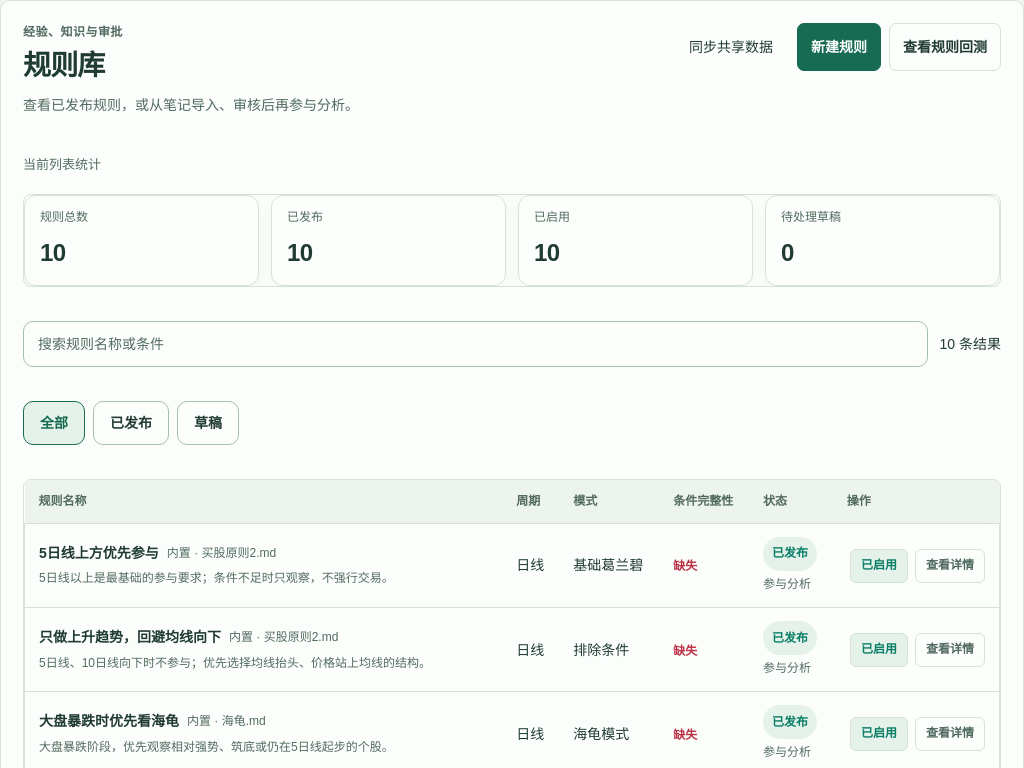
Test case: RulesPage interactions › keeps a rule draft and its inputs available when browser storage rejects the save
Click the button "新建规则".
click(839, 47)  # box x1=797 y1=23 x2=881 y2=71
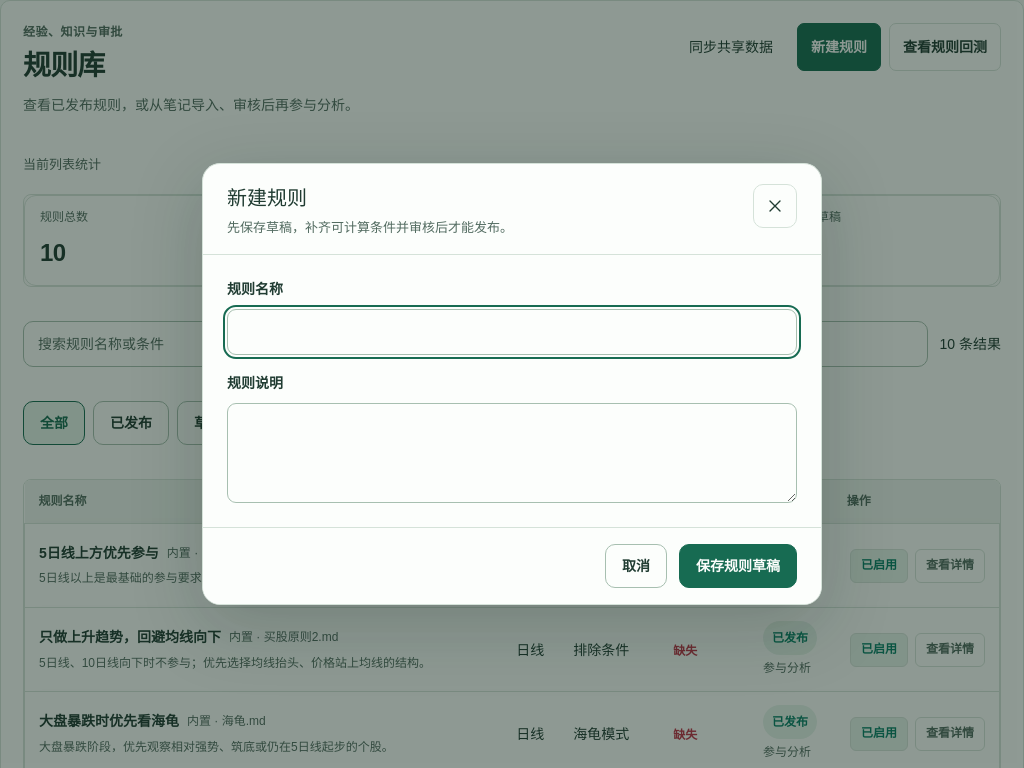
Type "保留输入" into the field labelled "规则名称".
click(512, 332); type("保留输入")  # box x1=227 y1=309 x2=797 y2=355
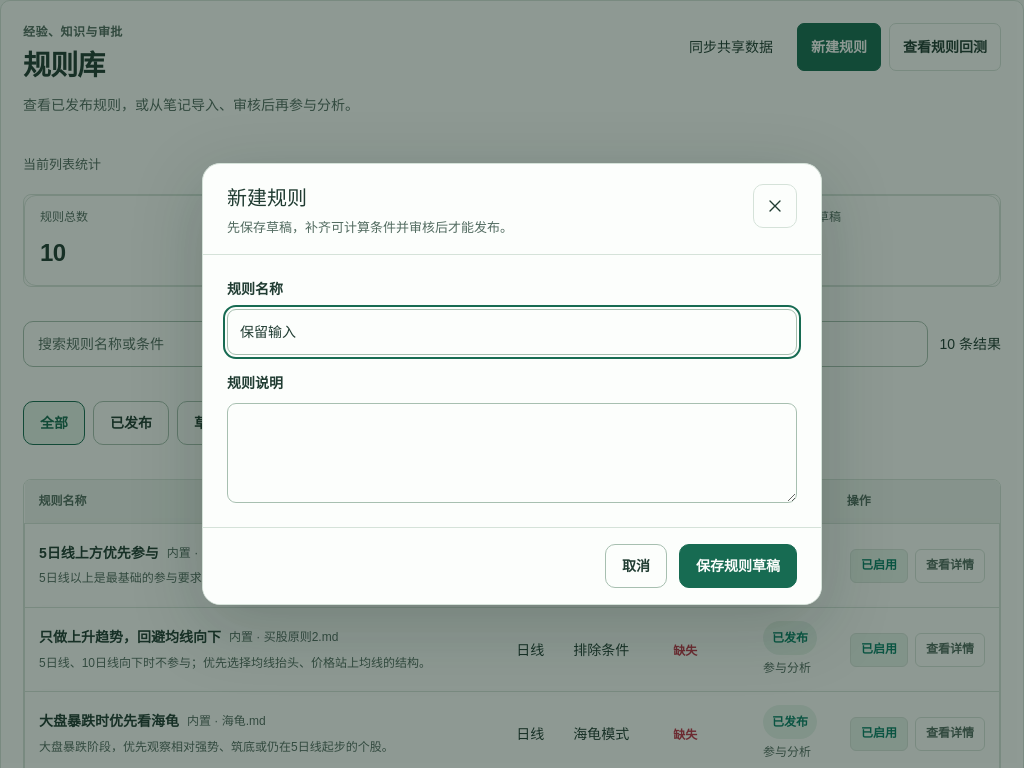
Click the button "保存规则草稿".
click(738, 566)  # box x1=679 y1=544 x2=797 y2=588
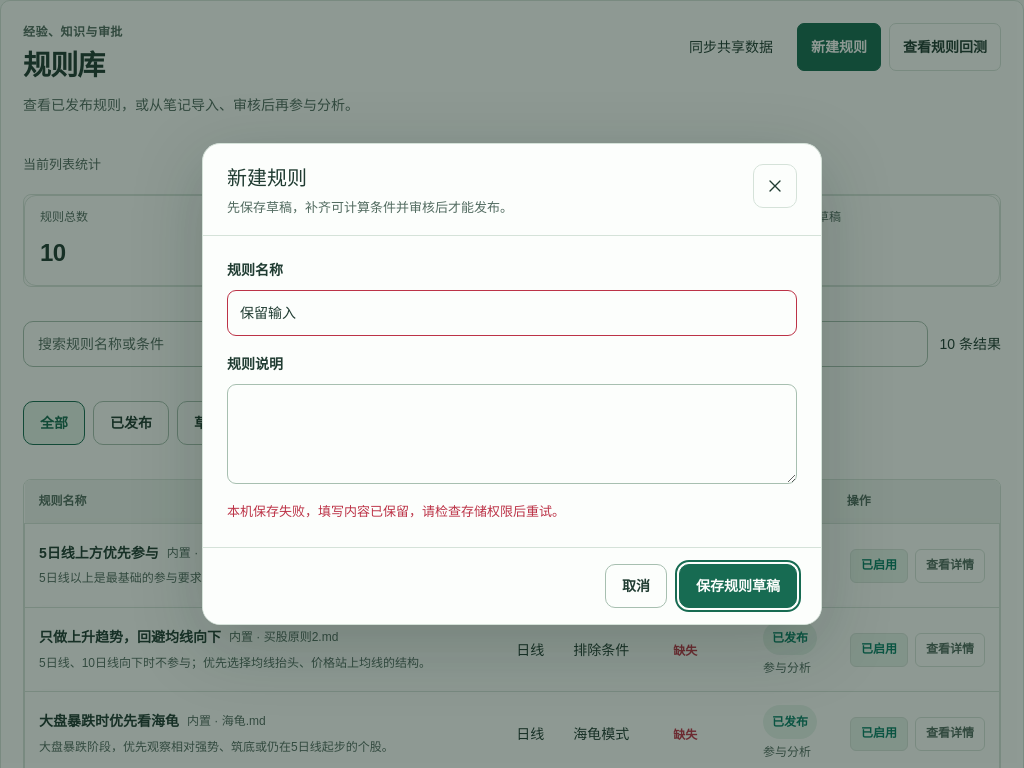
Result: the dialog "新建规则" is shown at x1=202 y1=143 x2=822 y2=625
Result: the message shows "本机保存失败" at x1=227 y1=504 x2=565 y2=519
